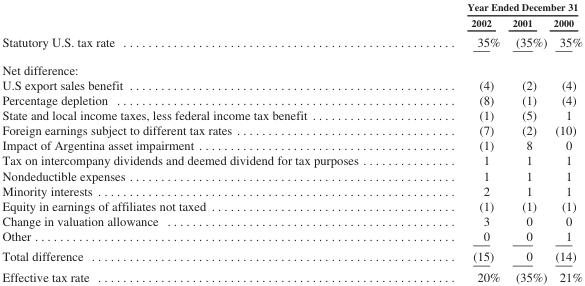table: (1, 0, 581, 283)
table column: (1, 0, 412, 283), (412, 0, 505, 283), (505, 0, 549, 283), (549, 0, 581, 283)
table column header: (1, 0, 581, 31)
table projected row header: (1, 55, 581, 76)
table row: (1, 31, 581, 55), (1, 55, 581, 76), (1, 245, 581, 266), (1, 14, 581, 31), (1, 228, 581, 245), (1, 266, 581, 283), (1, 91, 581, 107), (1, 197, 581, 213), (1, 76, 581, 91), (1, 107, 581, 122), (1, 122, 581, 137), (1, 137, 581, 152), (1, 152, 581, 167), (1, 167, 581, 182), (1, 182, 581, 197), (1, 213, 581, 228), (1, 0, 581, 14)
table spanning cell: (412, 0, 581, 14)
